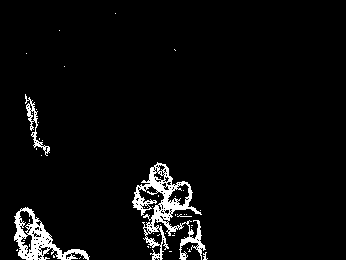person: (135, 161, 174, 257), (163, 179, 201, 257), (24, 94, 54, 156)
